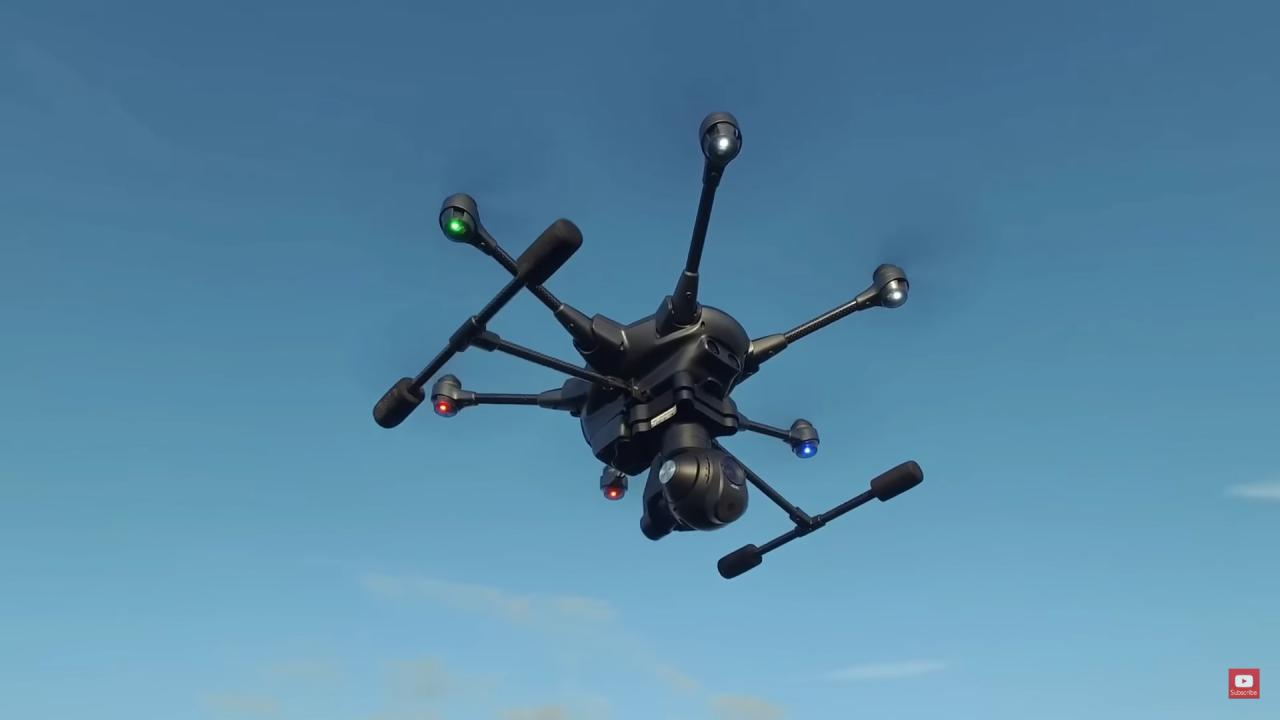Drone: (358, 99, 938, 598)
